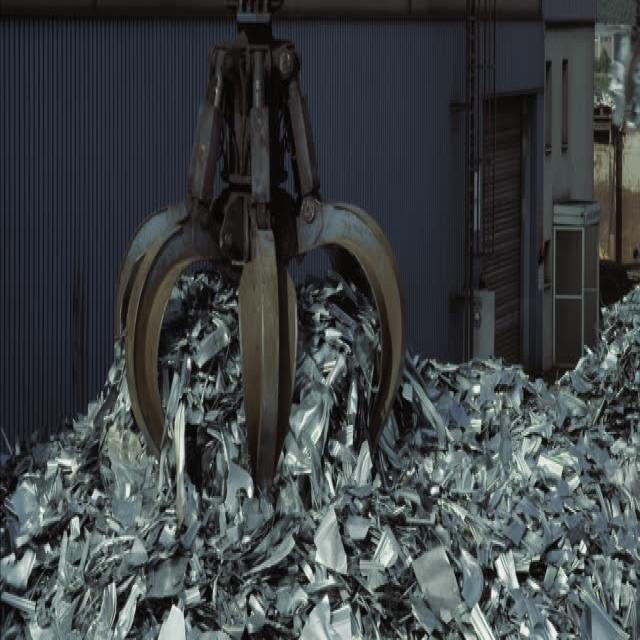metal: (416, 362, 626, 634), (8, 494, 397, 640)
